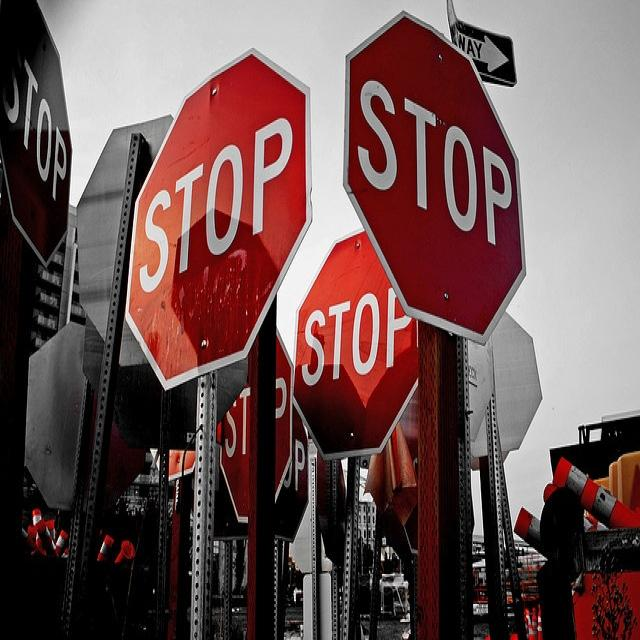pole: (186, 374, 221, 638)
